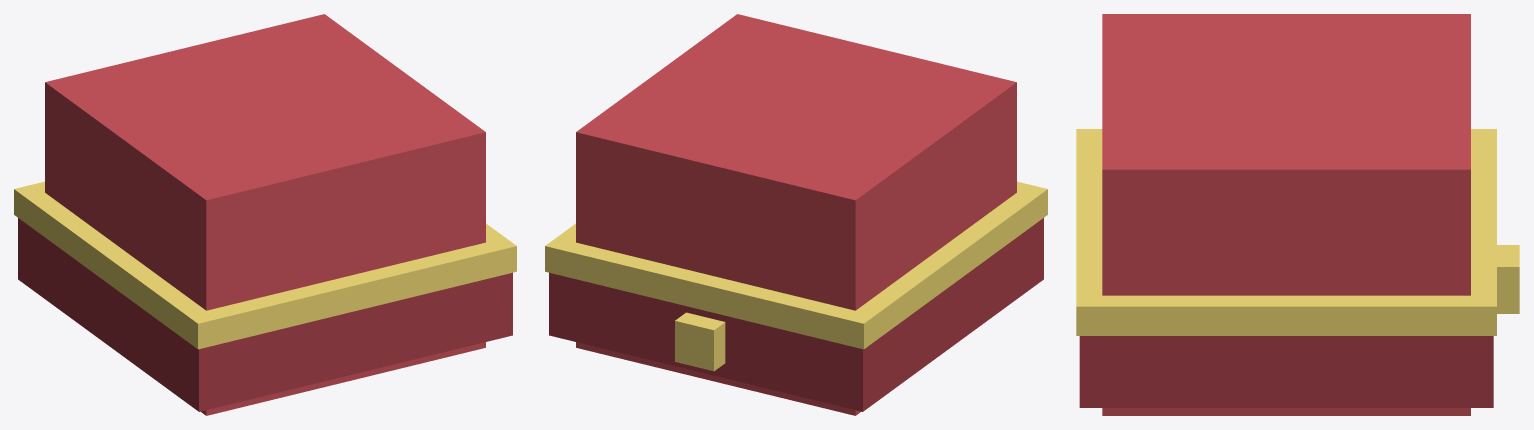
File: oficial_vermelho_manga_inf.glb
The picture shows the model from 3 angles, left to right: view 1: azimuth 30°, elevation 25°; view 2: azimuth 150°, elevation 25°; view 3: azimuth 270°, elevation 25°; orthographic projection. The views are drawn at different scales.
Parts seen in each view (by area): view 1: oficial_vermelho_manga_inf; view 2: oficial_vermelho_manga_inf; view 3: oficial_vermelho_manga_inf.
Part boxes in pixels (x1=…): oficial_vermelho_manga_inf: x1=14, y1=14, x2=516, y2=415; oficial_vermelho_manga_inf: x1=545, y1=14, x2=1047, y2=415; oficial_vermelho_manga_inf: x1=1076, y1=14, x2=1519, y2=415.
Bounding box in the file's own units: 0.325 × 0.21 × 0.3425.
